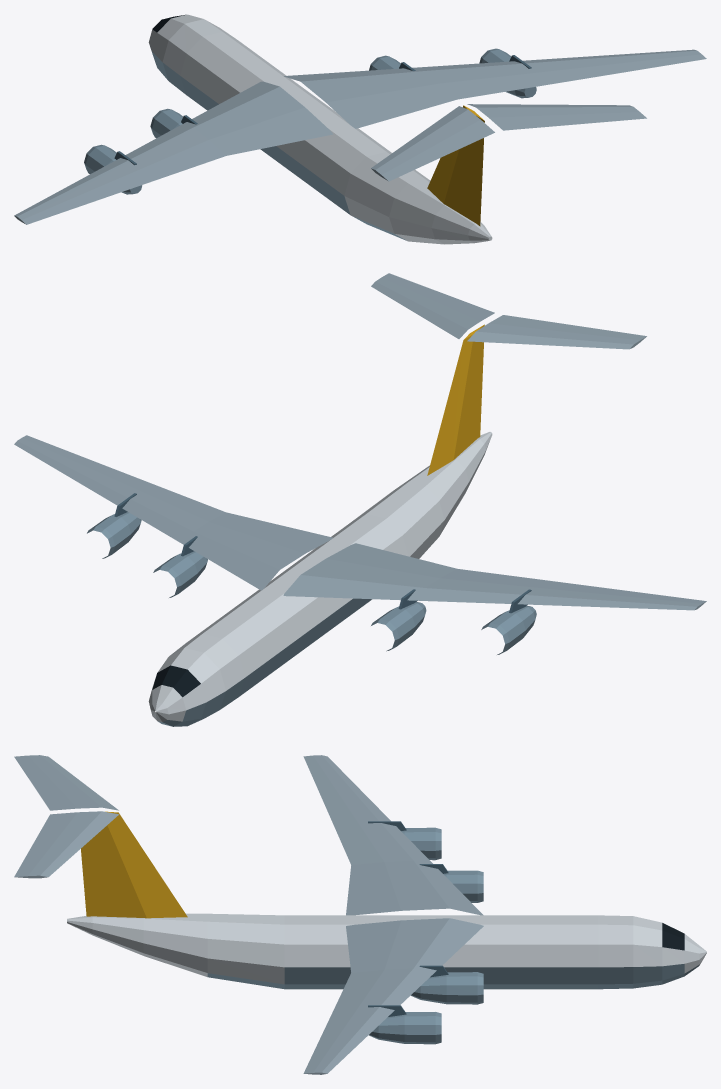
3 renders of one model, top to bottom at view 1: azimuth 30°, elevation 25°; view 2: azimuth 150°, elevation 25°; view 3: azimuth 270°, elevation 25°, orthographic. The views are drawn at different scales.
Visible parts, largest first — view 1: lod0; view 2: lod0; view 3: lod0.
Boxes of the visible parts, left/top/right/bottom form: lod0: left=14, top=14, right=706, bottom=244; lod0: left=14, top=273, right=706, bottom=726; lod0: left=14, top=755, right=706, bottom=1074.
Size of what is drawn, in the model's own units: 1.08 by 0.2788 by 1.
